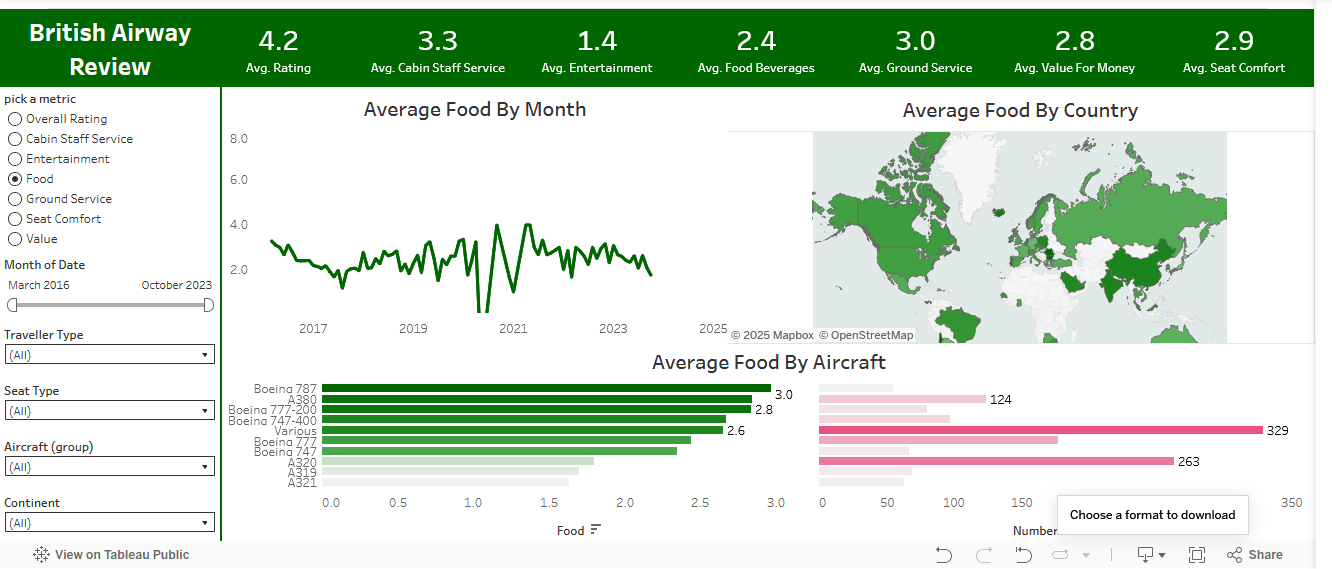

The page's visual inventory and layout, read from the dashboard file:
{"tool":"tableau","page":{"name":"Dashboard 1","canvas":[1000,1000],"units":"permille","ordinal":0},"visuals":[{"type":"text","box":[0,0,167.4,147.1]},{"type":"worksheet","title":"Summary","mark":"Automatic","box":[151.5,0,846.9,147.1]},{"type":"parameter","param":"[Parameters].[Parameter 1]","box":[0,143.4,167.4,303.3]},{"type":"worksheet","title":"Month","mark":"Line","rows":["Calculation_1098315415833419776"],"cols":["date"],"box":[168.2,147.1,385.8,481.6]},{"type":"worksheet","title":"MAP","mark":"Automatic","box":[552.3,148.9,446.9,481.6]},{"type":"filter","title":"MAP","param":"[federated.148ujoe1cgu4tq15vwv9w0bi1fny].[tmn:date:qk]","box":[0,446.7,167.4,126.8]},{"type":"filter","title":"MAP","param":"[federated.148ujoe1cgu4tq15vwv9w0bi1fny].[none:traveller_type:nk]","box":[0,573.5,167.4,95.6]},{"type":"filter","title":"MAP","param":"[federated.148ujoe1cgu4tq15vwv9w0bi1fny].[none:seat_type:nk]","box":[0,669.1,167.4,95.6]},{"type":"filter","title":"MAP","param":"[federated.148ujoe1cgu4tq15vwv9w0bi1fny].[Aircraft (group)]","box":[0,764.7,167.4,95.6]},{"type":"filter","title":"MAP","param":"[federated.148ujoe1cgu4tq15vwv9w0bi1fny].[none:Continent:nk]","box":[0,860.3,167.4,95.6]}]}

Visuals, with their boxes on the dashboard's canvas, which has no fixed pixel size, in thousandths of its width and height (x1, y1, x2, y2). These are canvas units, not pixel positions in the 1332x569 screenshot, which may show the page scaled, cropped or inside an application window:
text: box(0, 0, 167, 147)
"Summary" worksheet: box(152, 0, 998, 147)
parameter: box(0, 143, 167, 447)
"Month" worksheet (Line marks): box(168, 147, 554, 629)
"MAP" worksheet: box(552, 149, 999, 630)
"MAP" filter: box(0, 447, 167, 574)
"MAP" filter: box(0, 574, 167, 669)
"MAP" filter: box(0, 669, 167, 765)
"MAP" filter: box(0, 765, 167, 860)
"MAP" filter: box(0, 860, 167, 956)
